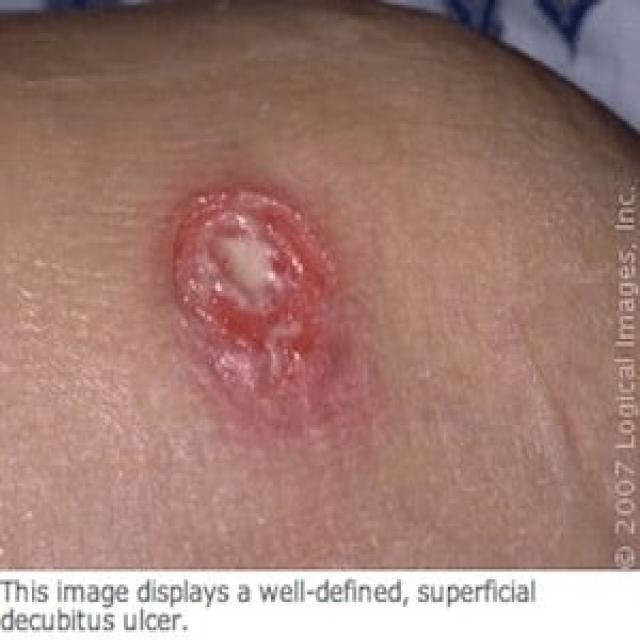stage-2: (173, 192, 334, 366)
